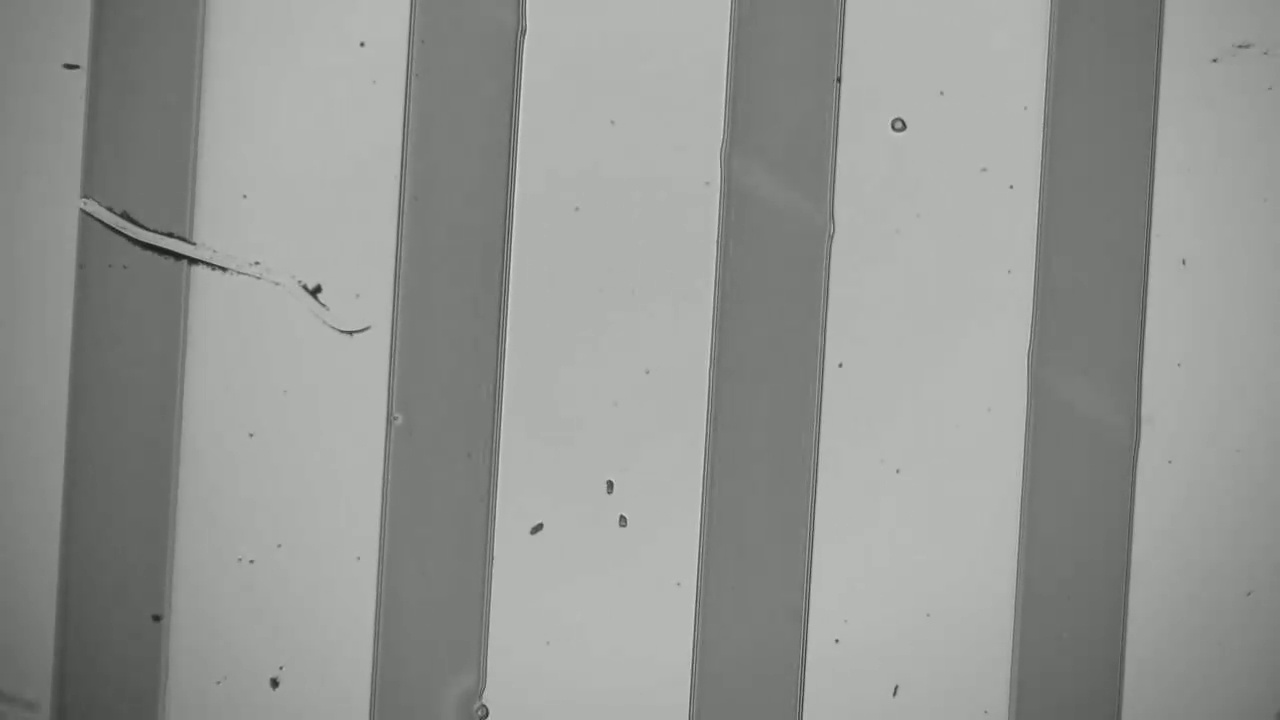Short_circuit: (41, 176, 223, 282)
